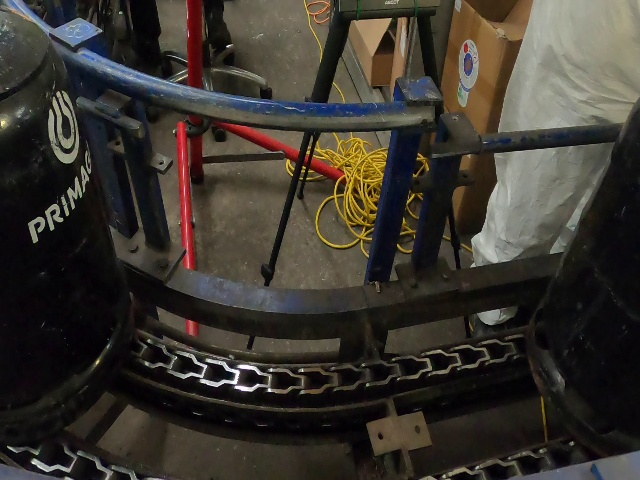gas_bottle: (0, 0, 636, 473)
